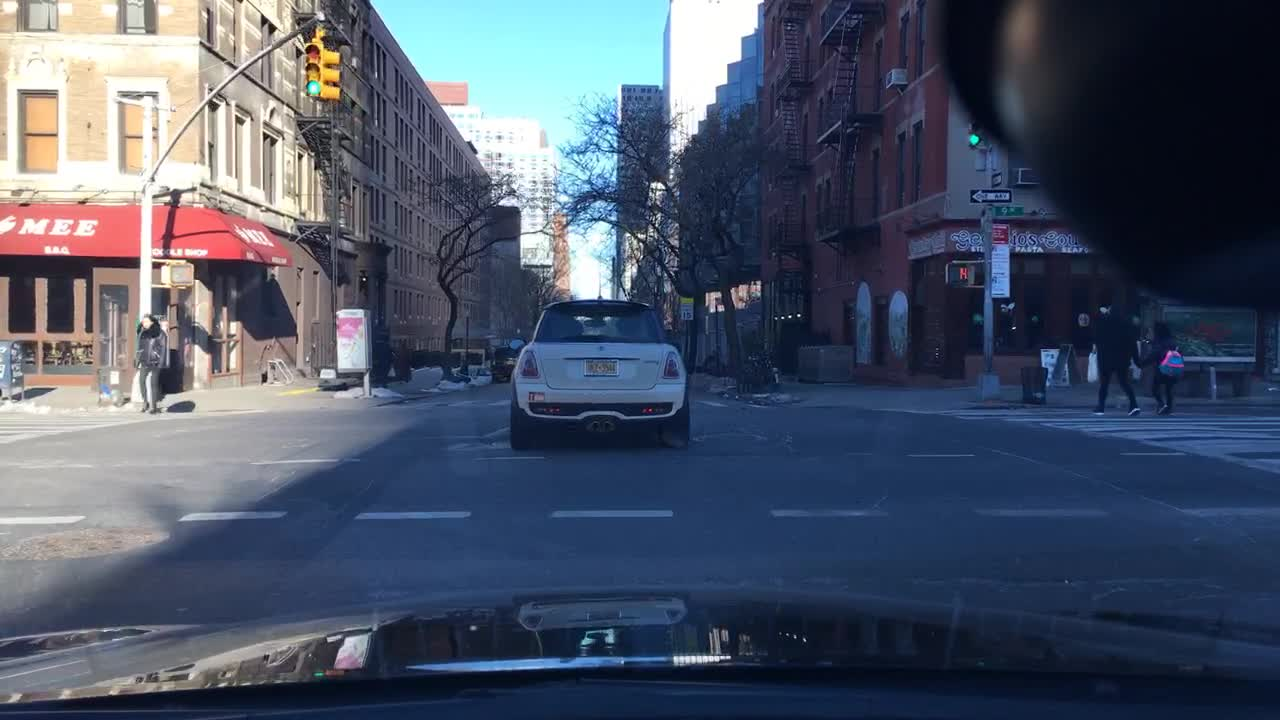car: (504, 296, 695, 453), (489, 339, 528, 385), (678, 296, 695, 323)
person: (1092, 296, 1145, 419), (1140, 317, 1187, 421), (132, 314, 169, 416)
traffic light: (158, 258, 195, 288), (323, 48, 341, 102), (305, 39, 320, 103), (944, 259, 976, 288), (968, 112, 985, 153)
traffic sign: (991, 242, 1012, 299), (968, 188, 1013, 205), (990, 222, 1012, 244), (991, 205, 1026, 217)
